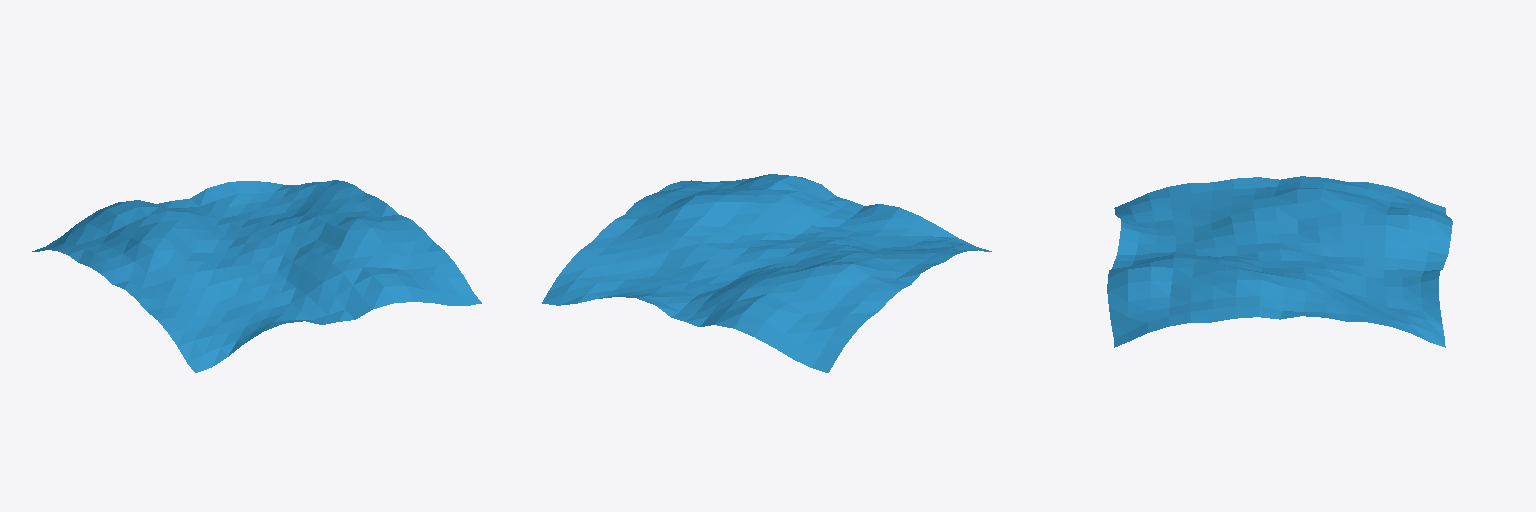
The model's file is water_000088.obj.
3 views of the same model, side by side, from view 1: azimuth 30°, elevation 25°; view 2: azimuth 150°, elevation 25°; view 3: azimuth 270°, elevation 25° (orthographic).
Parts seen in each view (by area): view 1: Plan.003_Plan.001; view 2: Plan.003_Plan.001; view 3: Plan.003_Plan.001.
Boxes of the visible parts, x1=… form: Plan.003_Plan.001: x1=32, y1=180, x2=481, y2=372; Plan.003_Plan.001: x1=542, y1=174, x2=991, y2=372; Plan.003_Plan.001: x1=1107, y1=176, x2=1452, y2=347.
Bounding box in the file's own units: 60802 × 8785 × 62896.